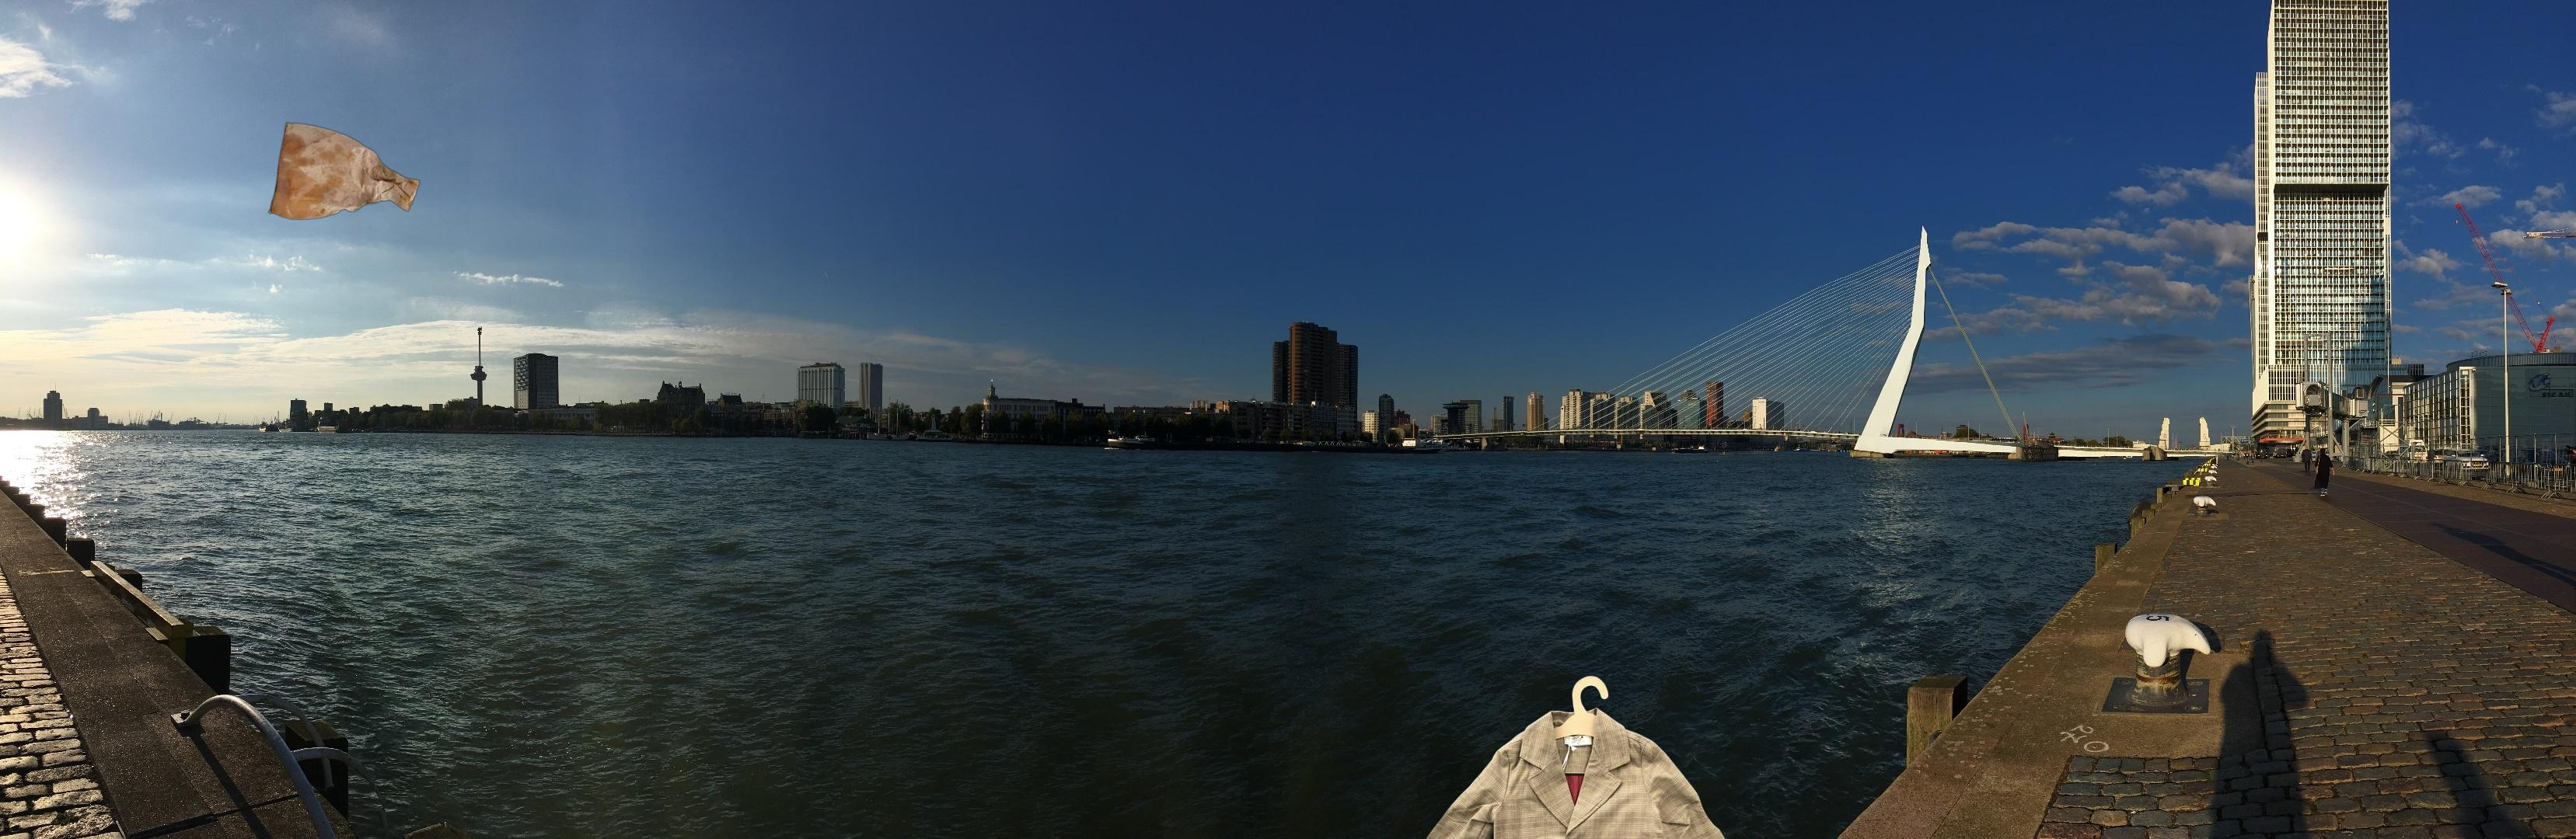clothes: (1388, 673, 1761, 839)
paper-bag: (267, 120, 423, 221)
